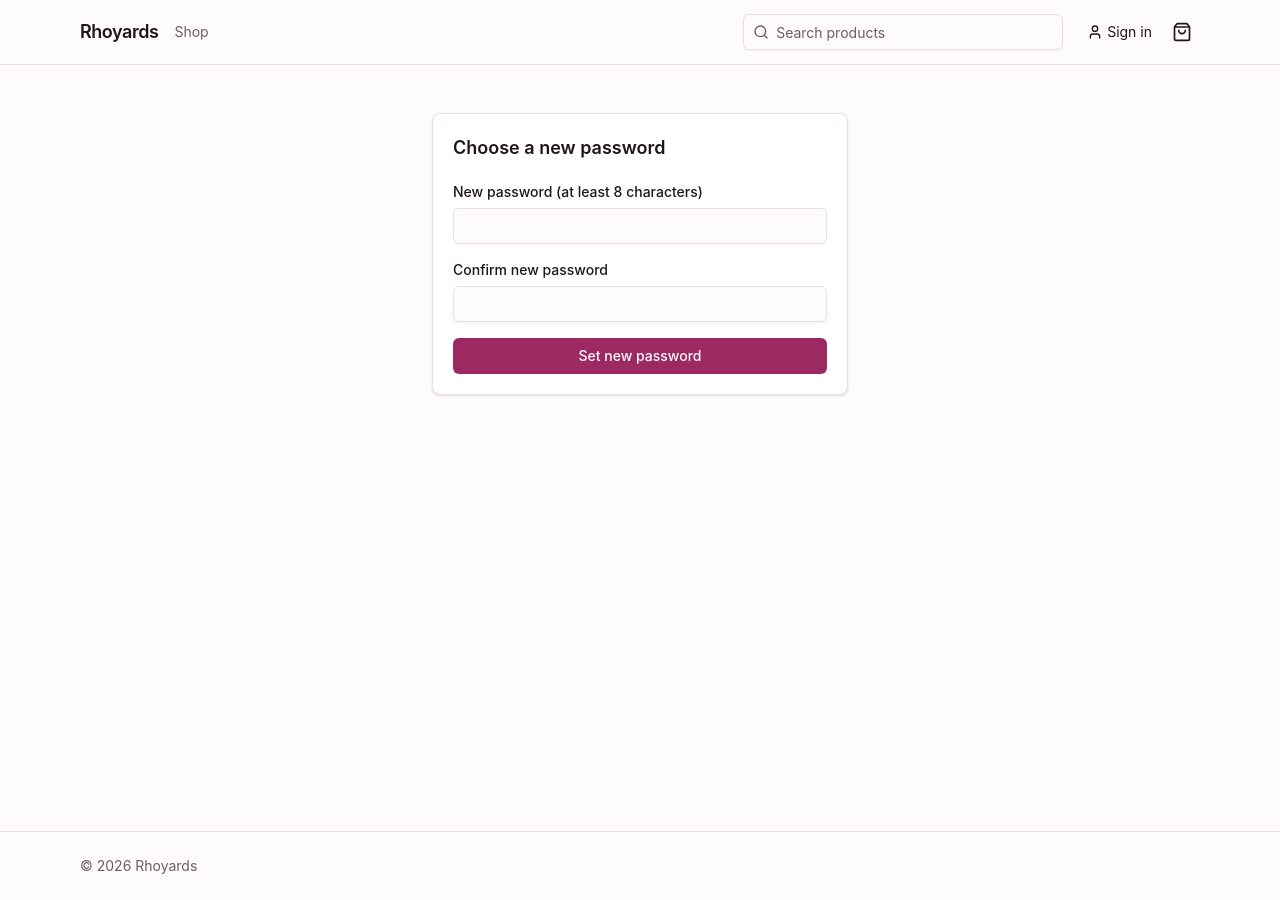
shopper password reset › sets a new password from the emailed link and shows an expired link clearly
Type "new-pass-123" into the password field labelled "New password (at least 8 characters)" at x=640, y=226, box [453,208,827,244]
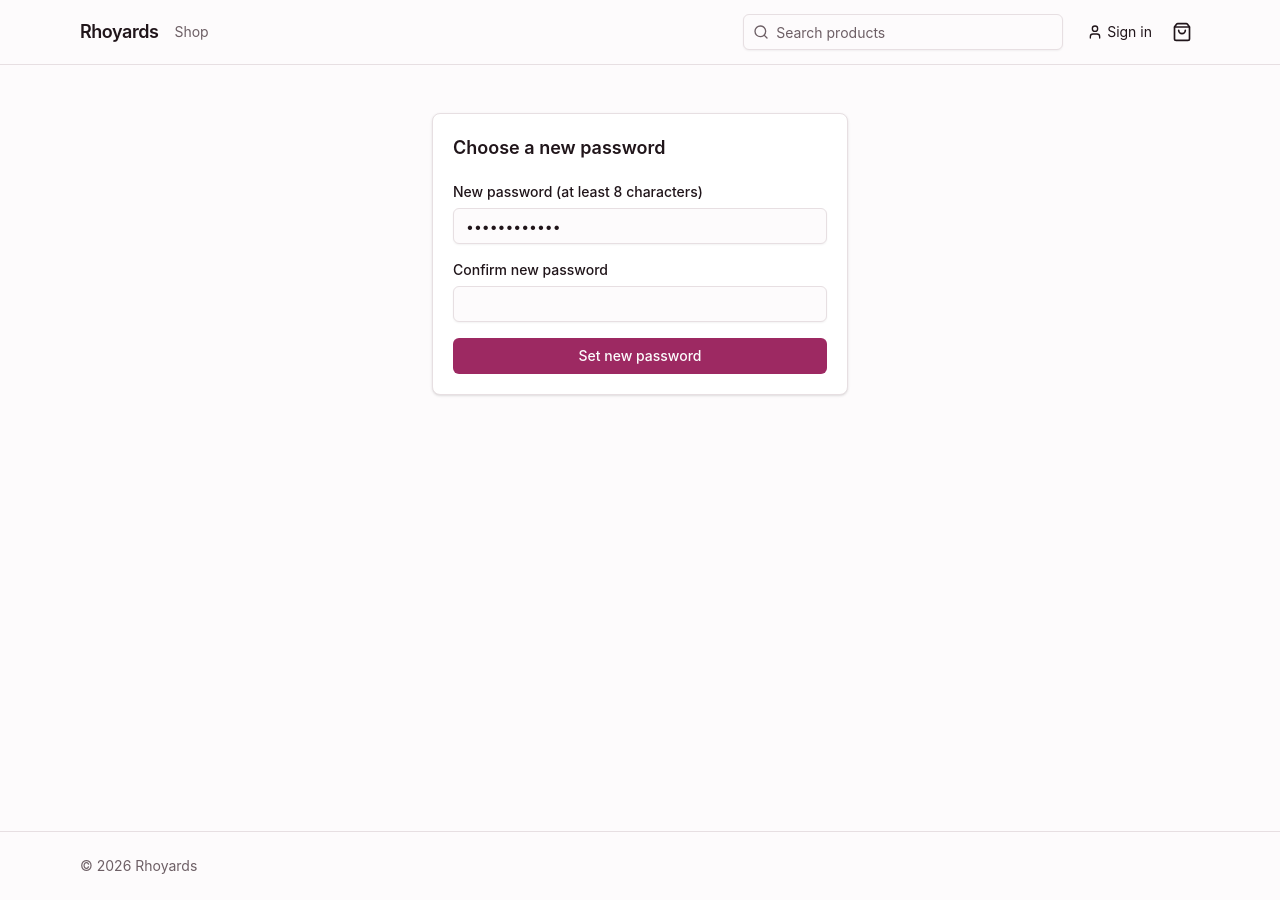
Type "different-1" into the password field labelled "Confirm new password" at x=640, y=304, box [453,286,827,322]
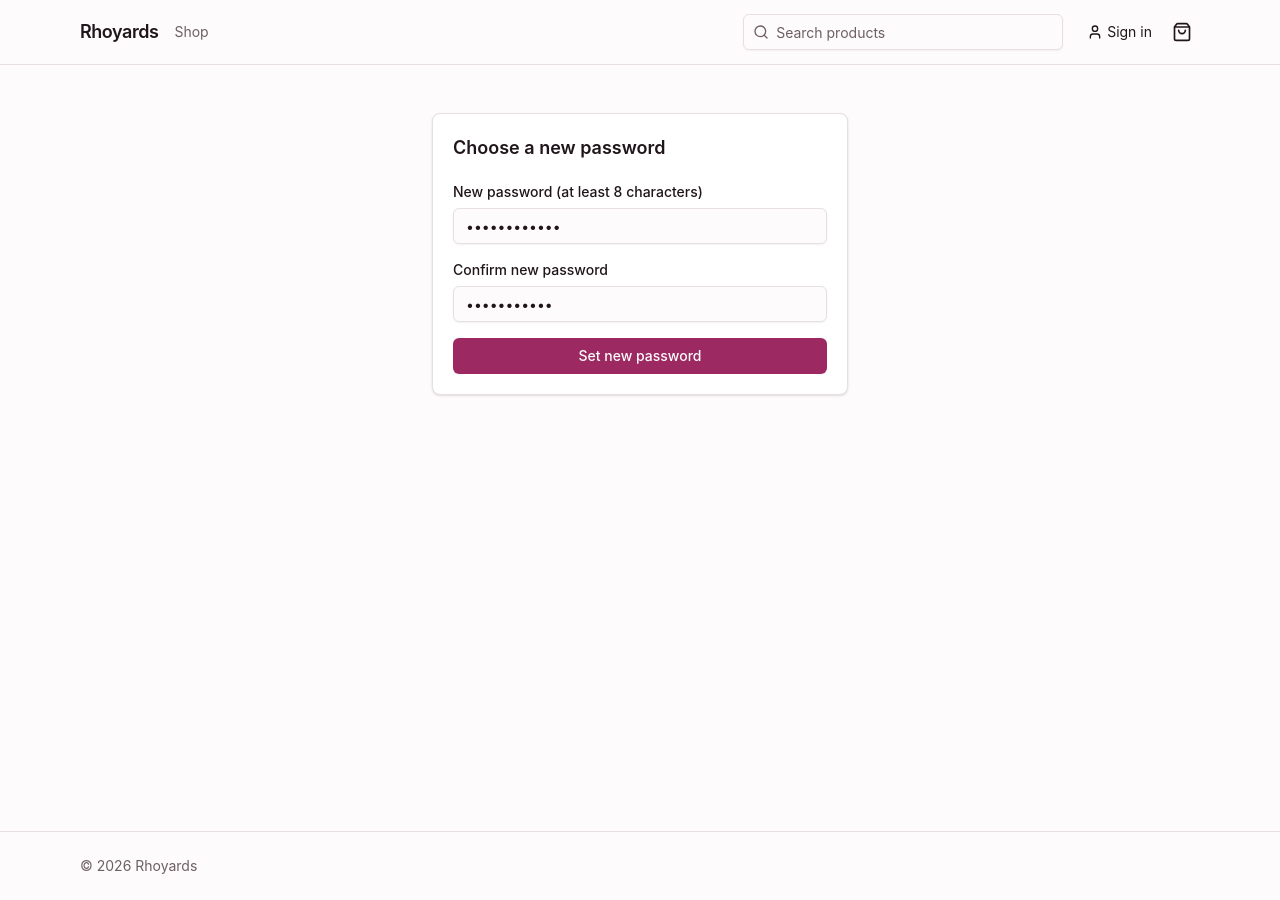
Click the button "Set new password" at x=640, y=356, box [453,338,827,374]
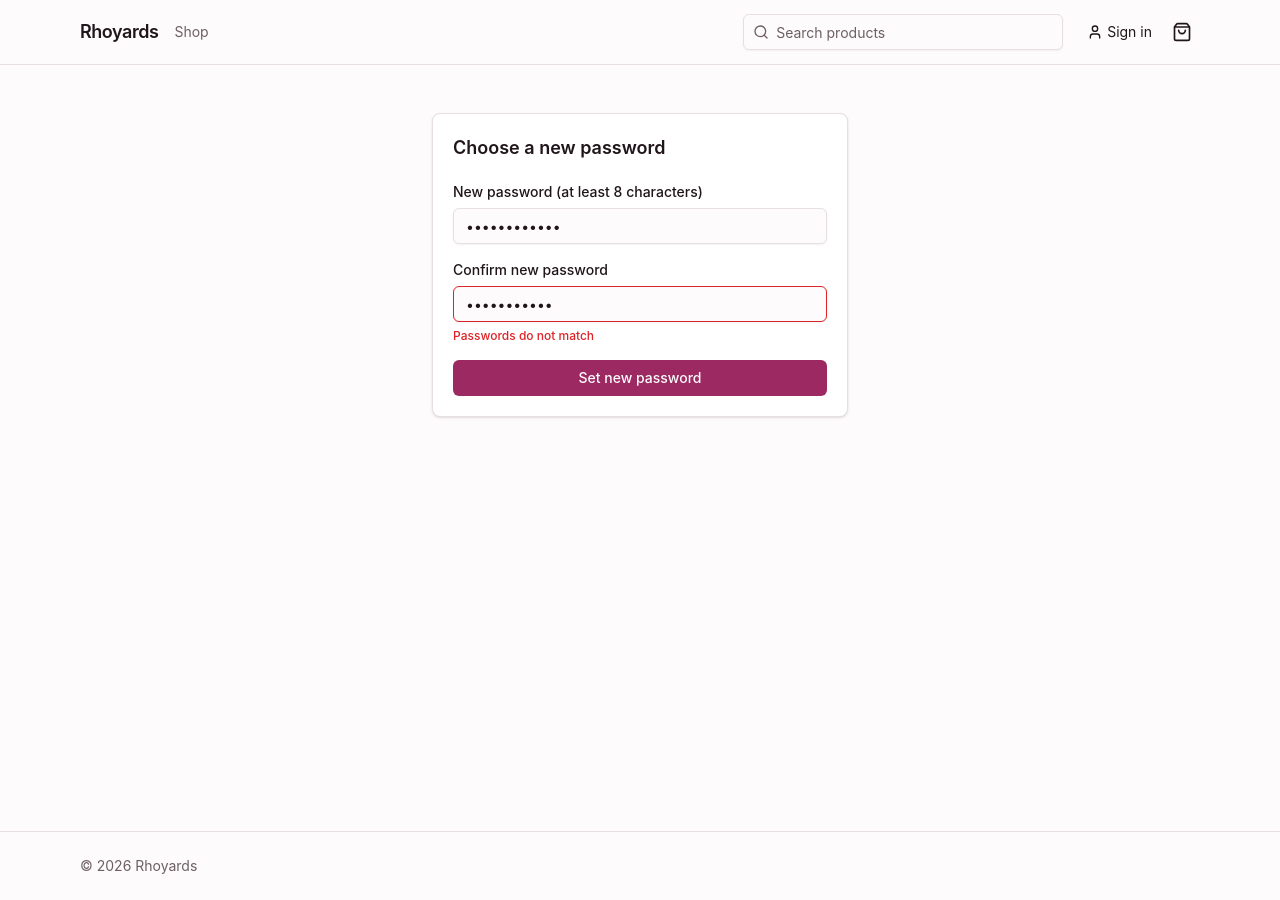
Expected: the text "Passwords do not match" is shown, [453,328,594,343]
Type "new-pass-123" into the password field labelled "Confirm new password" at x=640, y=304, box [453,286,827,322]
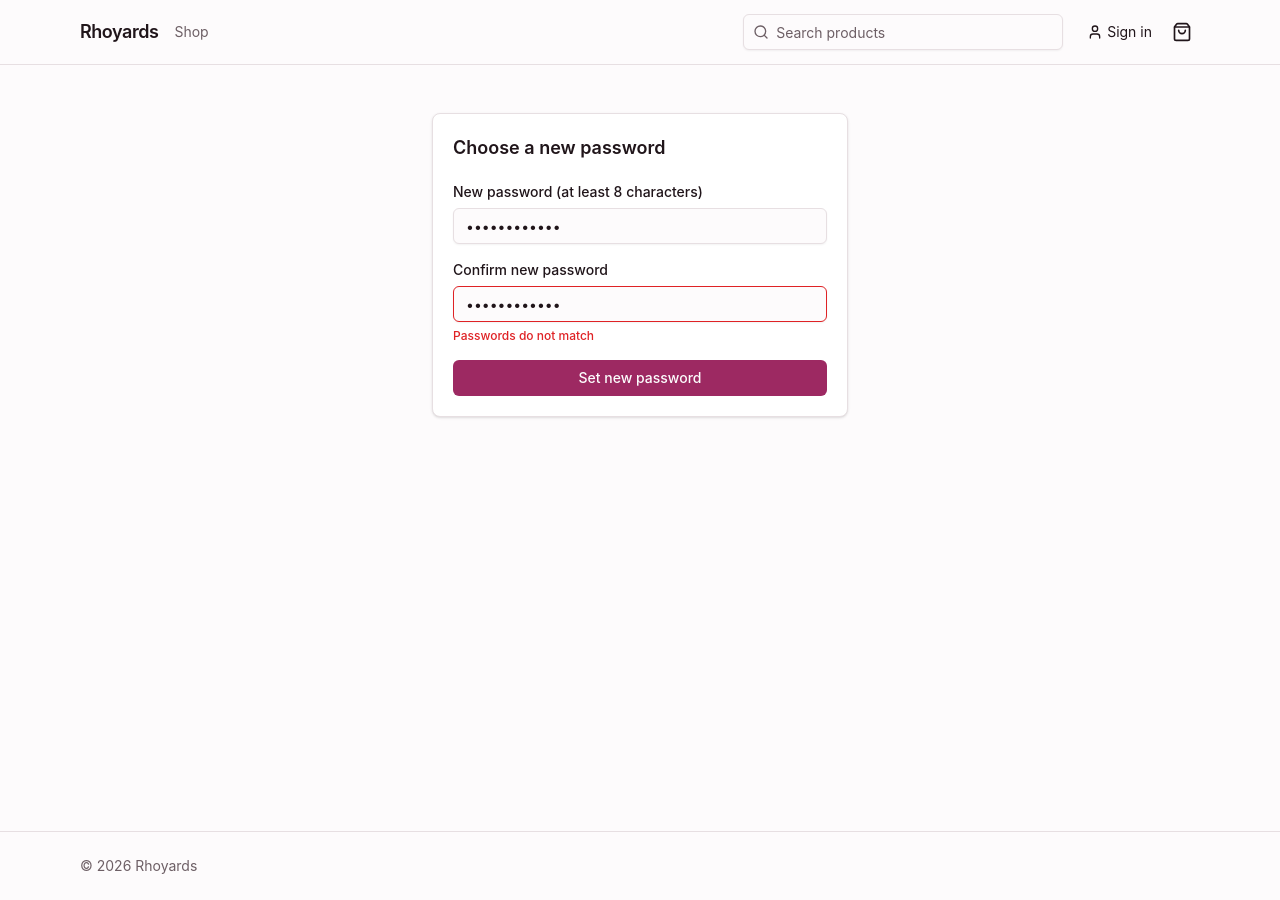
Click the button "Set new password" at x=640, y=378, box [453,360,827,396]
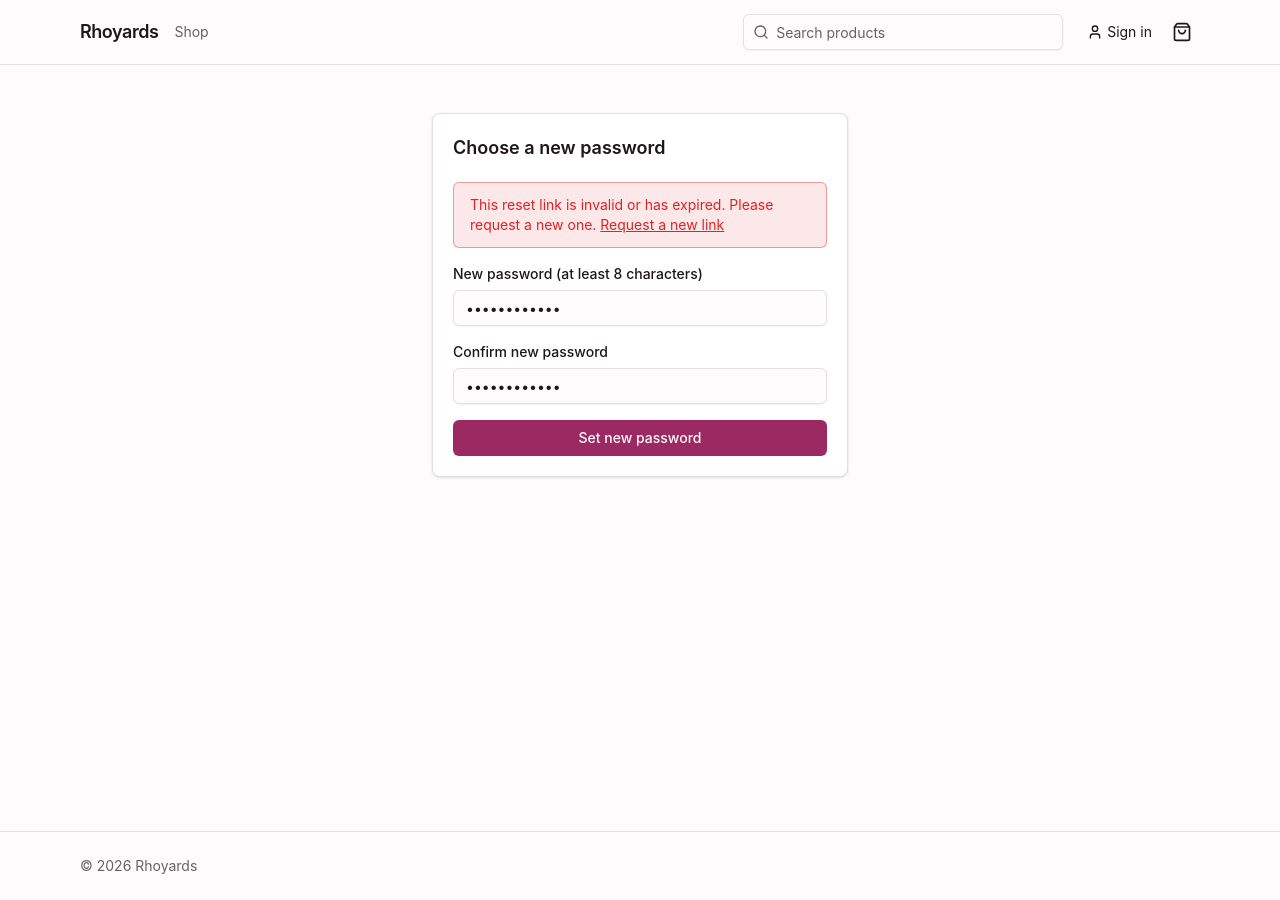
Expected: the text "invalid or has expired" is shown, [470,196,773,233]
Click the button "Set new password" at x=640, y=438, box [453,420,827,456]
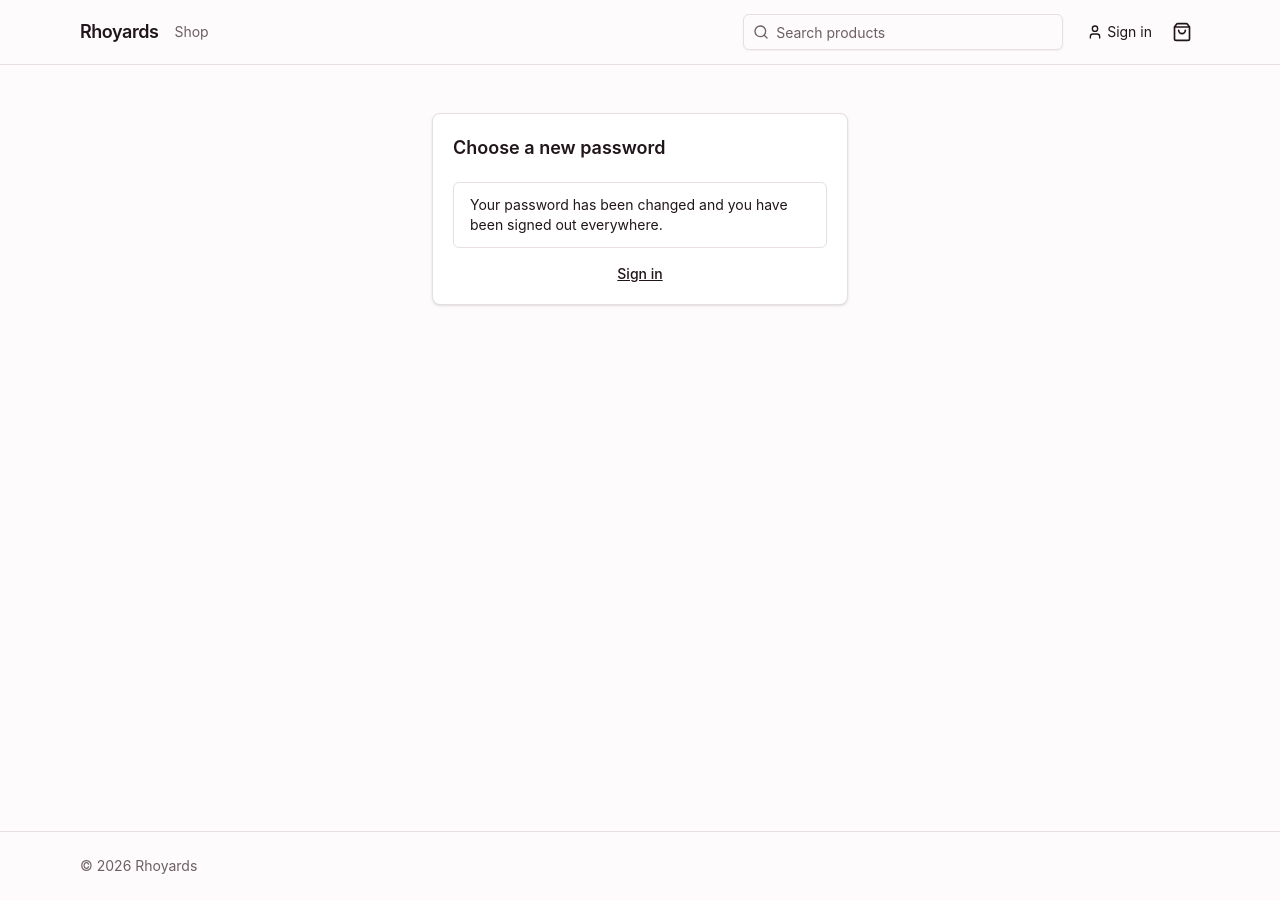
Expected: the text "Your password has been changed and you have been signed out everywhere." is shown, [453,182,827,248]
